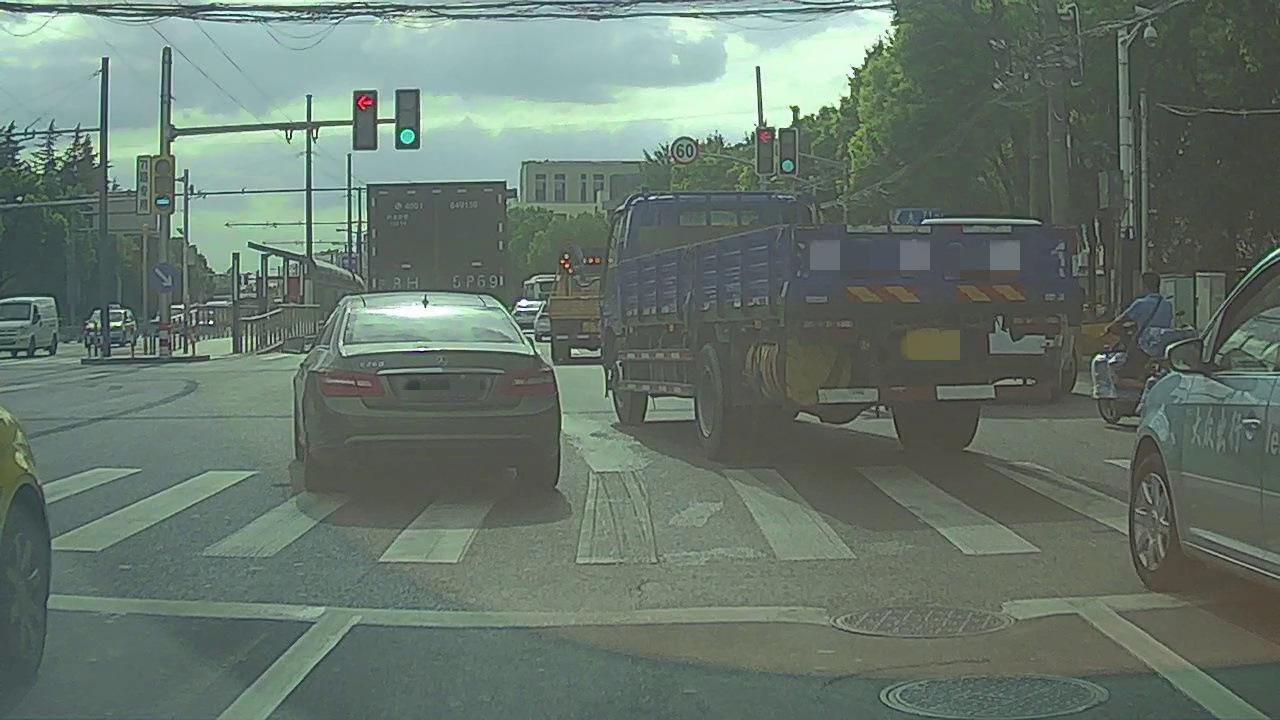traffic_light: (355, 90, 377, 151), (396, 90, 418, 149), (780, 128, 797, 175), (756, 129, 773, 174)
